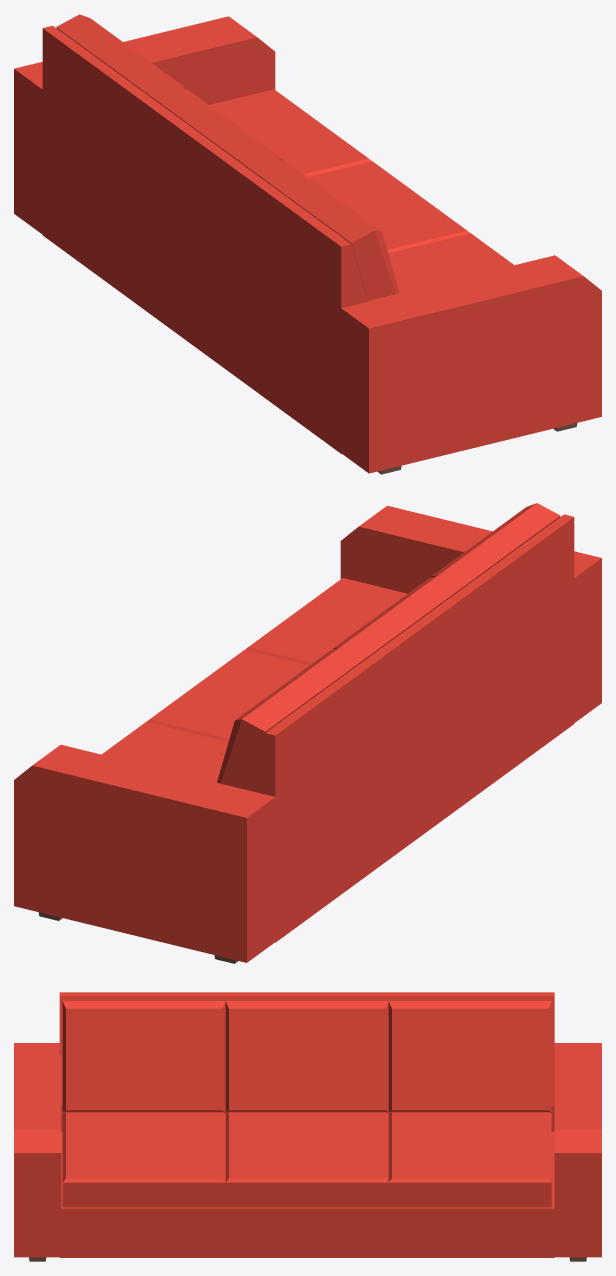
The model's file is Sofa_01.gltf.
The picture shows the model from 3 angles, top to bottom: view 1: azimuth 30°, elevation 25°; view 2: azimuth 150°, elevation 25°; view 3: azimuth 270°, elevation 25°; orthographic projection. The views are drawn at different scales.
Visible parts, largest first — view 1: node-0; view 2: node-0; view 3: node-0.
Boxes of the visible parts, left/top/right/bottom form: node-0: left=14, top=14, right=601, bottom=474; node-0: left=14, top=503, right=601, bottom=963; node-0: left=14, top=992, right=601, bottom=1261.
Bounding box in the file's own units: 10.52 × 9.76 × 27.79.
